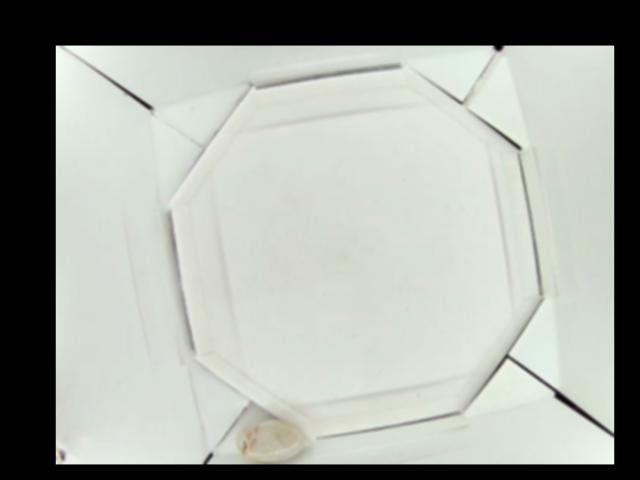Pebble: (236, 418, 310, 464)
